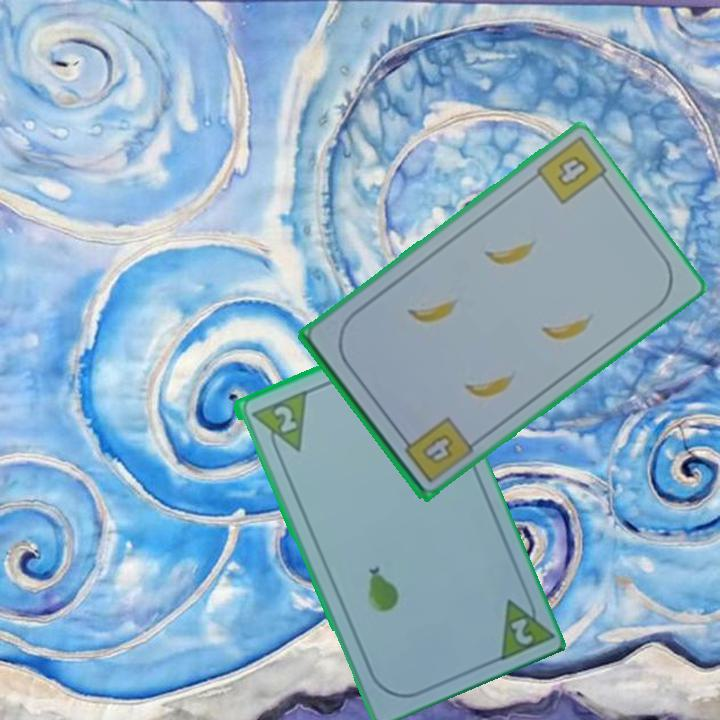2p: (492, 585, 553, 664), (247, 387, 309, 461)
4b: (395, 413, 474, 486), (553, 151, 593, 189)
